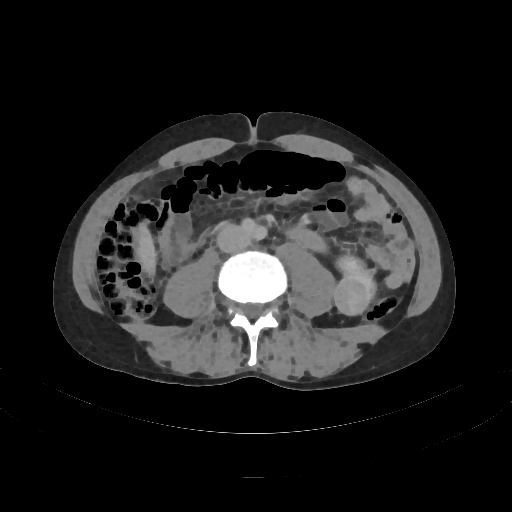Lesion: (332, 277, 370, 318)
